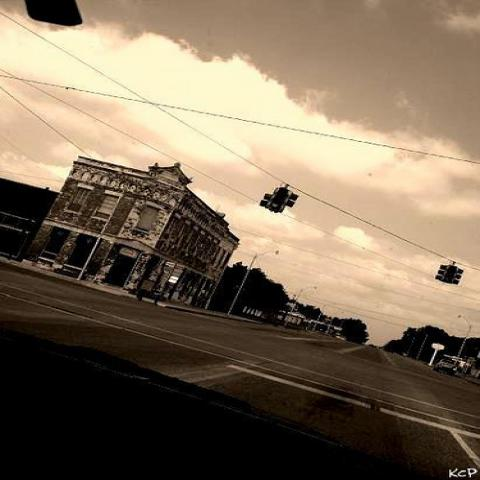car: (433, 359, 459, 376), (331, 330, 347, 340)
